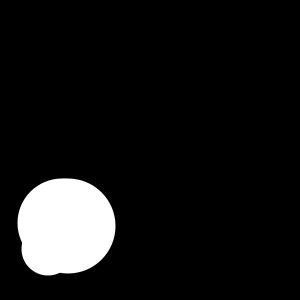rectangle: (20, 178, 116, 274), (17, 178, 106, 268), (22, 222, 74, 276)
